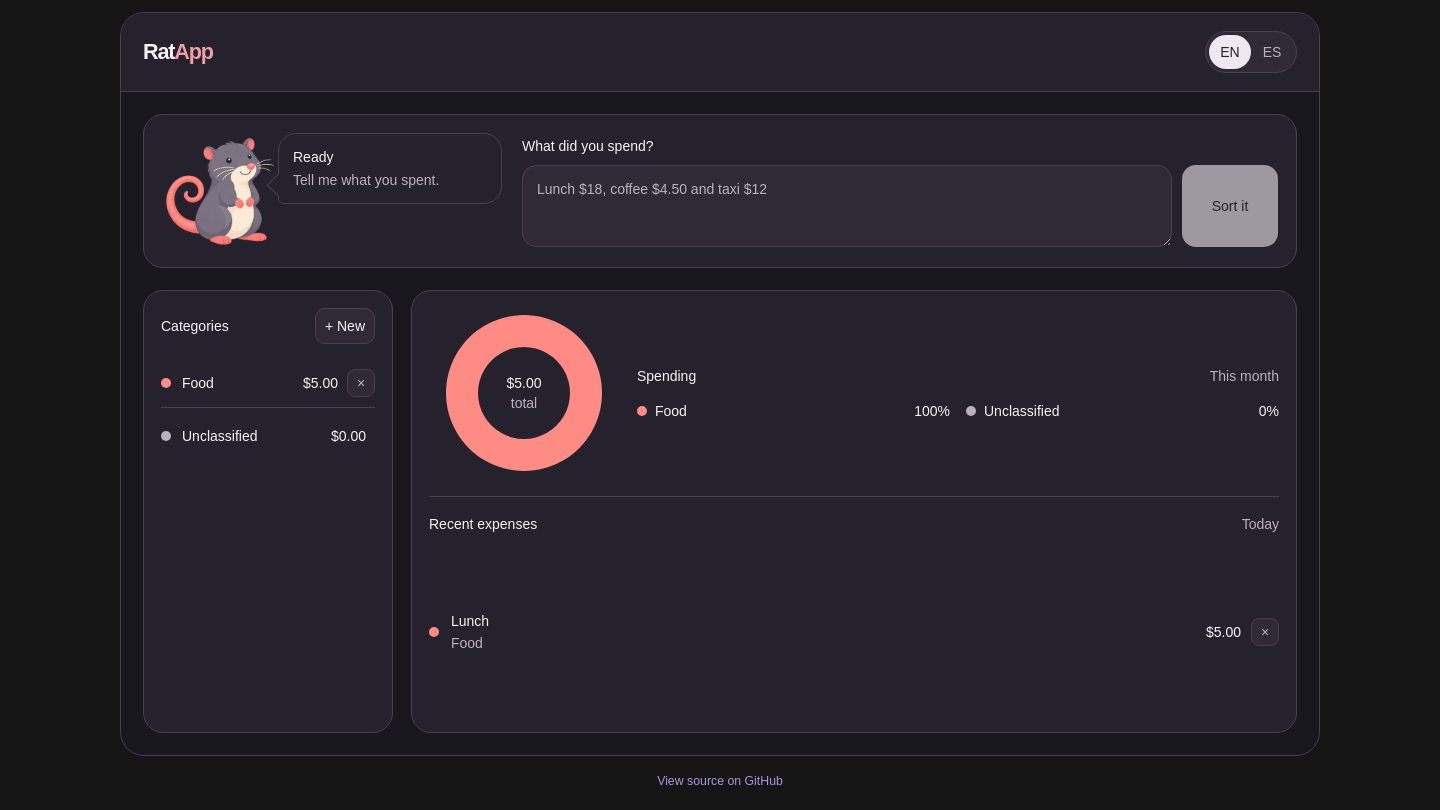
Test: DashboardPage API composition › refreshes both section-owned resources after a category cascade
Expected: the text "Lunch" is shown, [451, 613, 489, 629]
Click the button named "Delete Food" at (361, 383), box [347, 369, 375, 397]
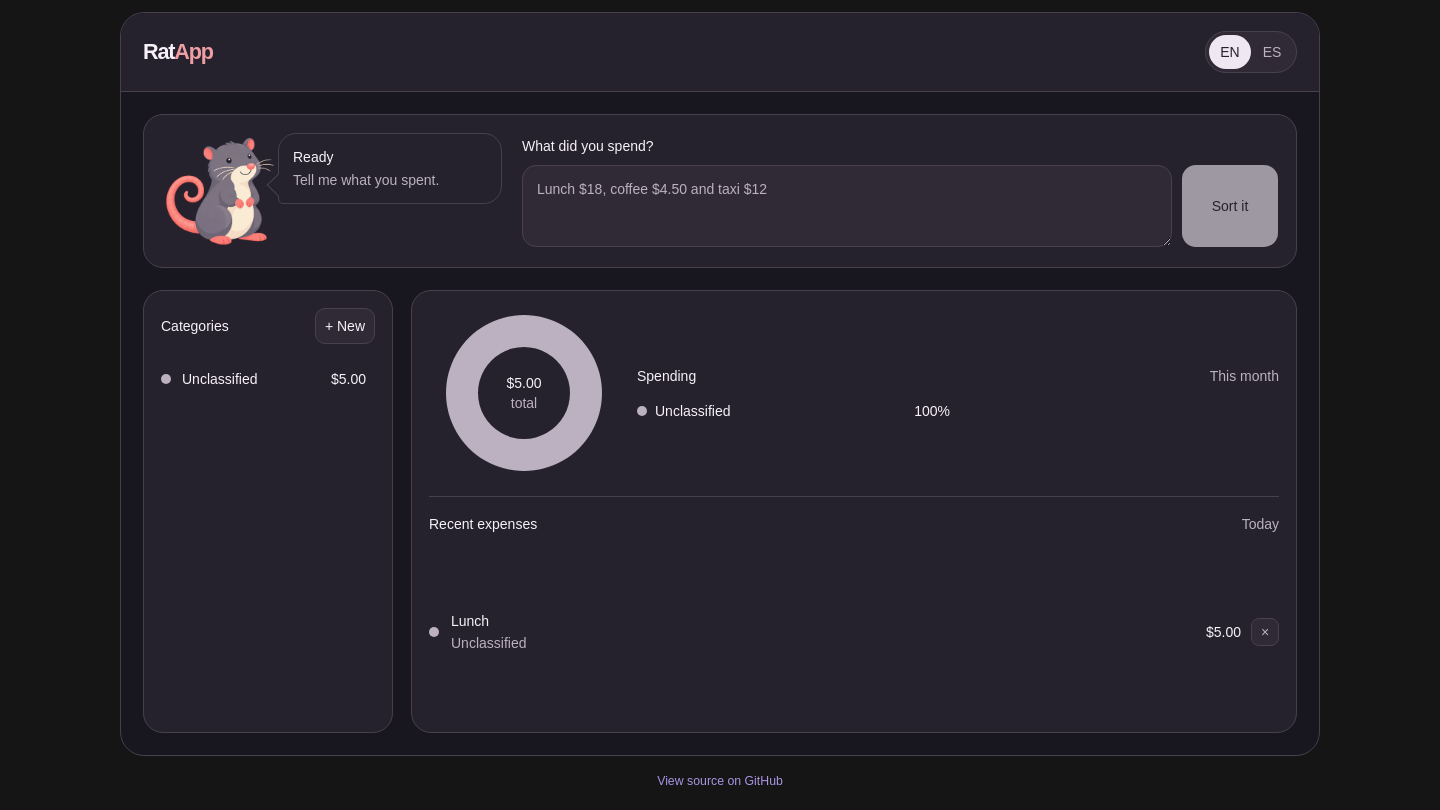
Expected: the text "Unclassified" below "Lunch" is shown, [451, 635, 526, 651]
